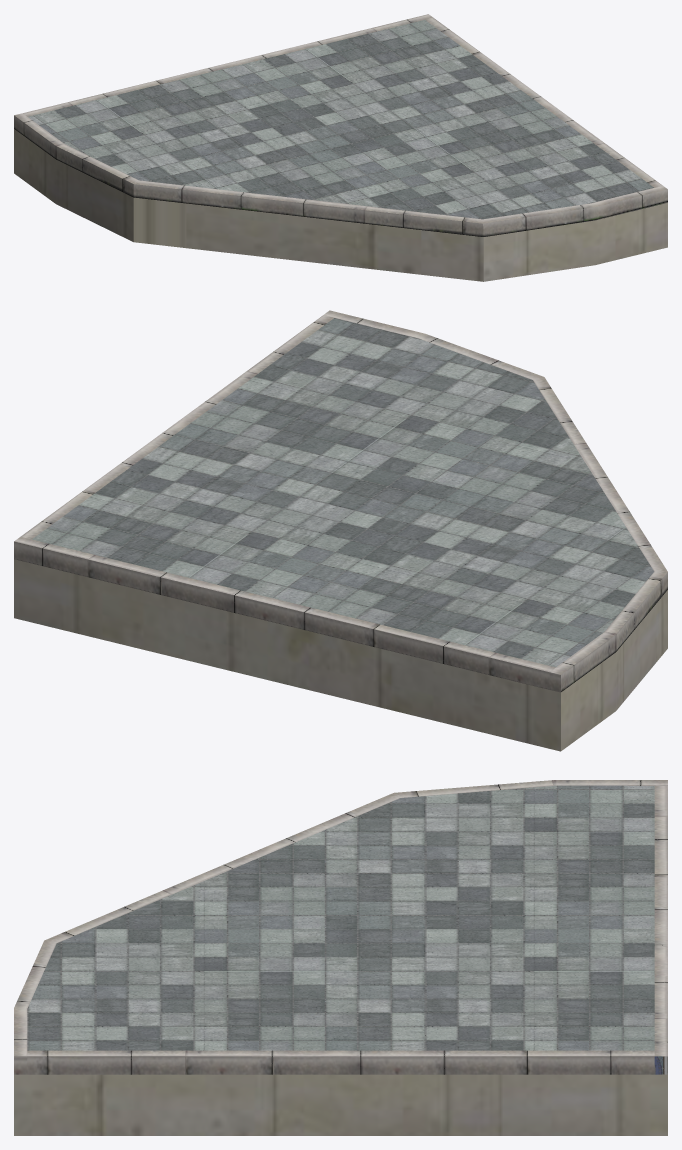
File: Building_site_c1_cvin.fbx
3 renders of one model, top to bottom at view 1: azimuth 30°, elevation 25°; view 2: azimuth 150°, elevation 25°; view 3: azimuth 270°, elevation 25°, orthographic. The views are drawn at different scales.
Visible parts, largest first — view 1: Building_site_c1_cvin; view 2: Building_site_c1_cvin; view 3: Building_site_c1_cvin.
Boxes of the visible parts, x1=… form: Building_site_c1_cvin: x1=14, y1=14, x2=667, y2=281; Building_site_c1_cvin: x1=14, y1=310, x2=667, y2=751; Building_site_c1_cvin: x1=14, y1=780, x2=667, y2=1135.
Bounding box in the file's own units: 485 × 65.04 × 485.
